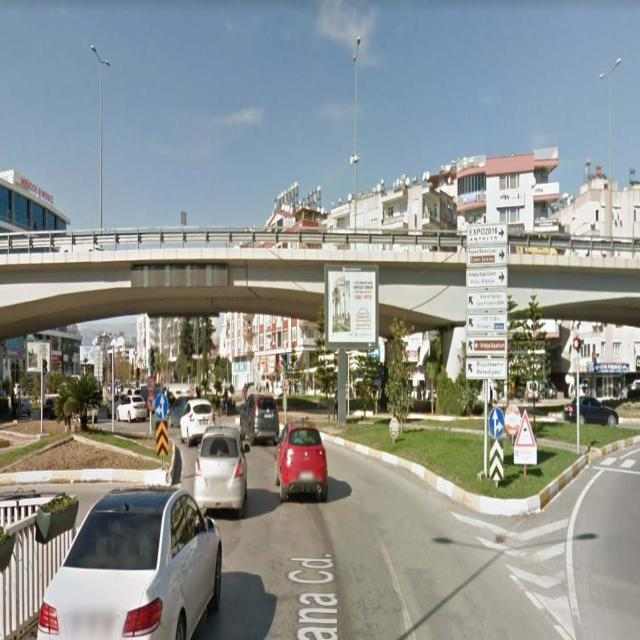ilerisag: (489, 408, 504, 438)
ilerisol: (156, 392, 167, 420)
soladonulmez: (147, 394, 155, 409)
